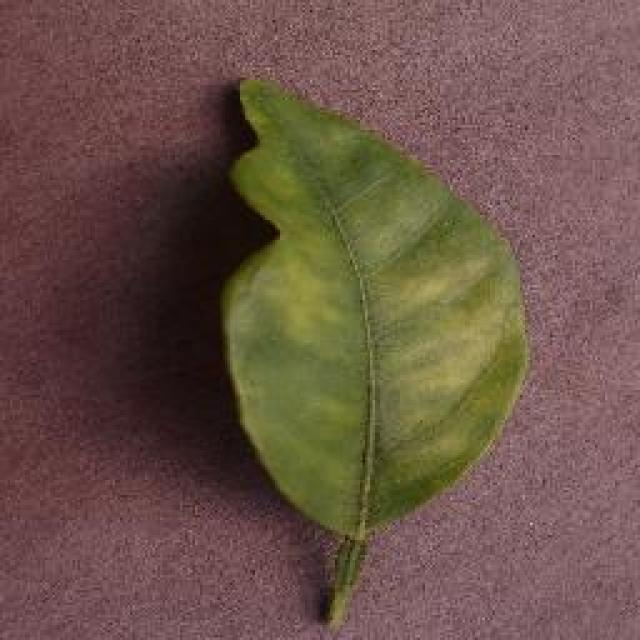Orange_Haunglongbing_Citrus_greening: (206, 120, 535, 490)
